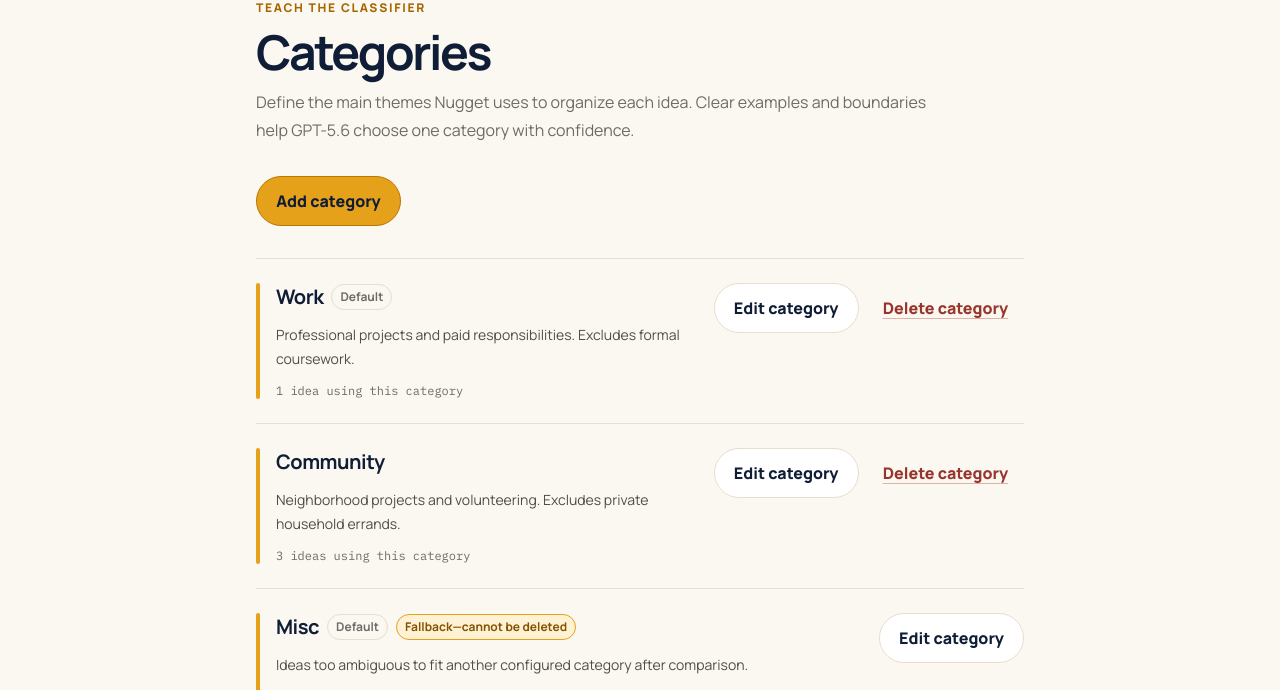
Test: CategorySettingsScreen › defaults deletion replacement to Misc and announces the complete reassignment
Click the button "Delete category" in the row of "Community". click: (945, 473)
box: [867,448,1024,498]
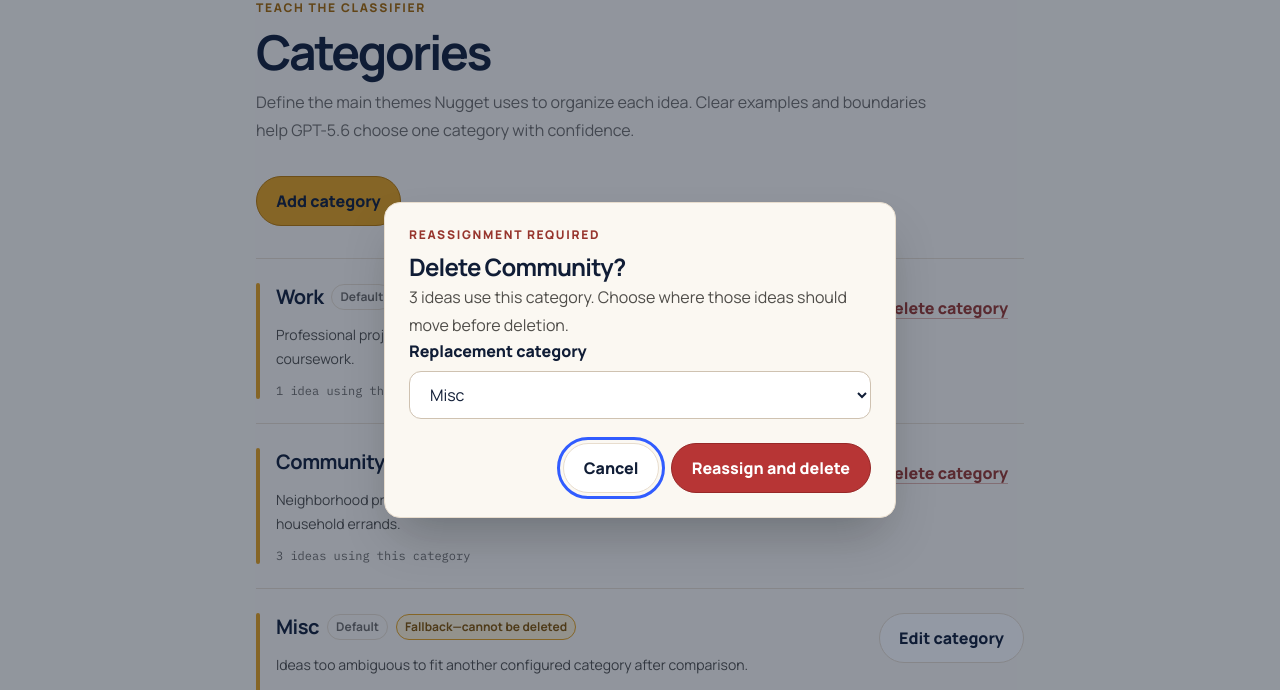
Expected: the text "3 ideas use this category. Choose where those ideas should move before deletion." is shown, [409,283,871,339]
Expected: the dropdown labelled "Replacement category" shows "Misc"
Select "Choose a category" in the dropdown labelled "Replacement category". click: (640, 395)
box: [409,371,871,419]
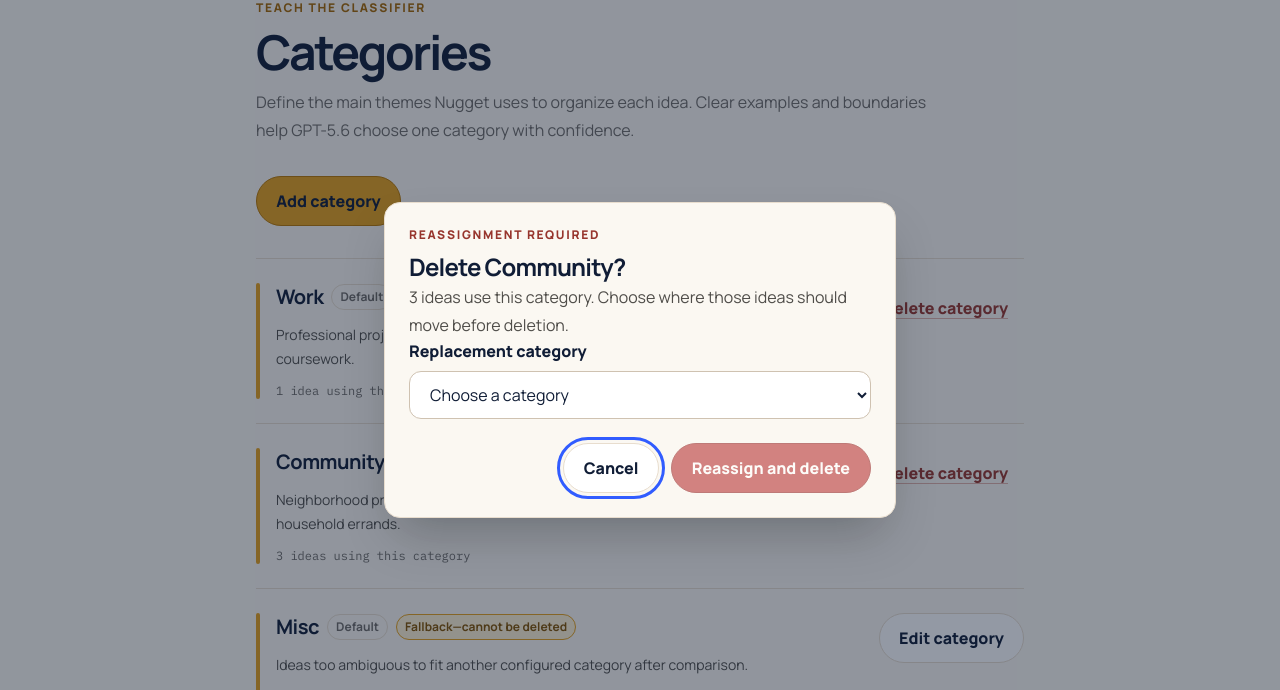
Expected: the button "Reassign and delete" is disabled, [671,443,871,493]
Select "Misc" in the dropdown labelled "Replacement category". click: (640, 395)
box: [409,371,871,419]
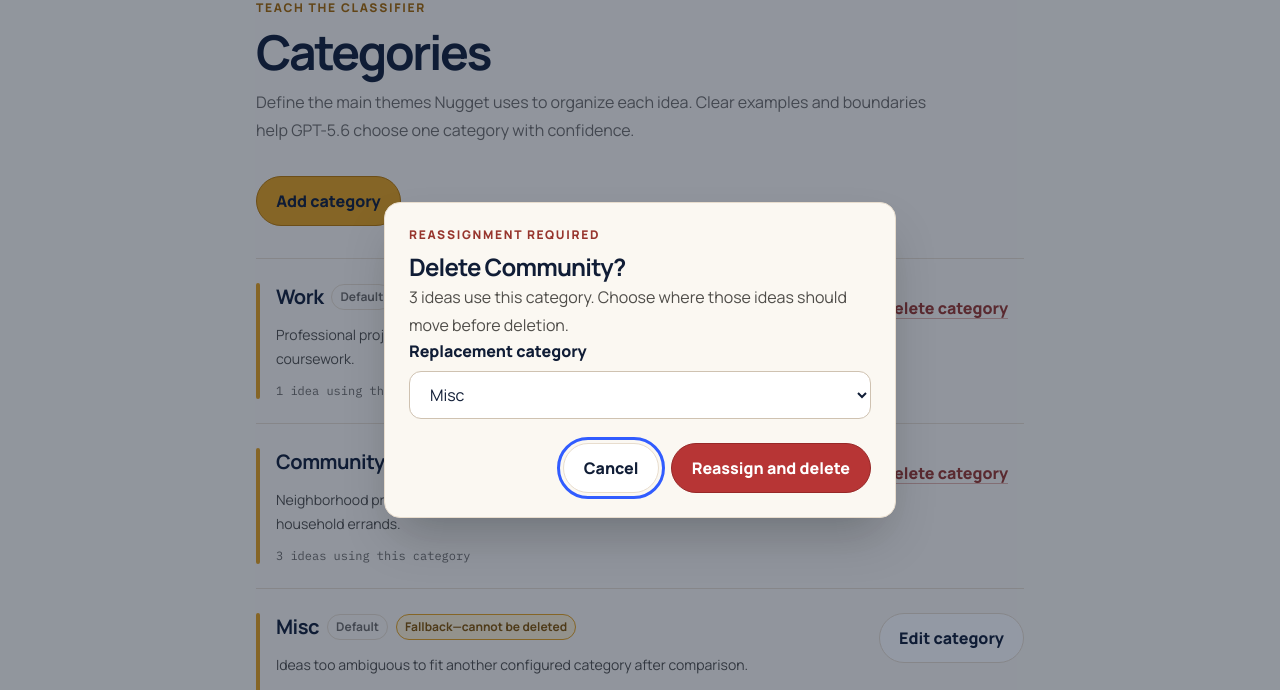
Click the button "Reassign and delete". click: (771, 468)
box: [671,443,871,493]
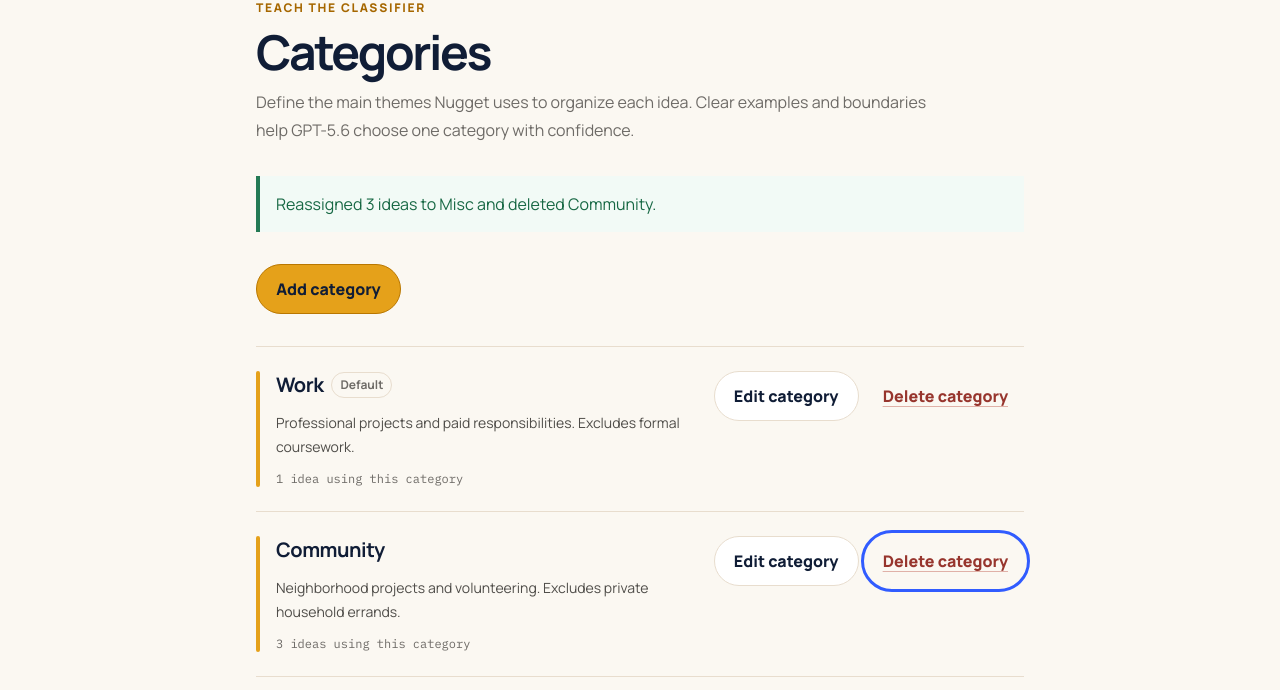
Expected: the text "Reassigned 3 ideas to Misc and deleted Community." is shown, [256,176,1024,232]
